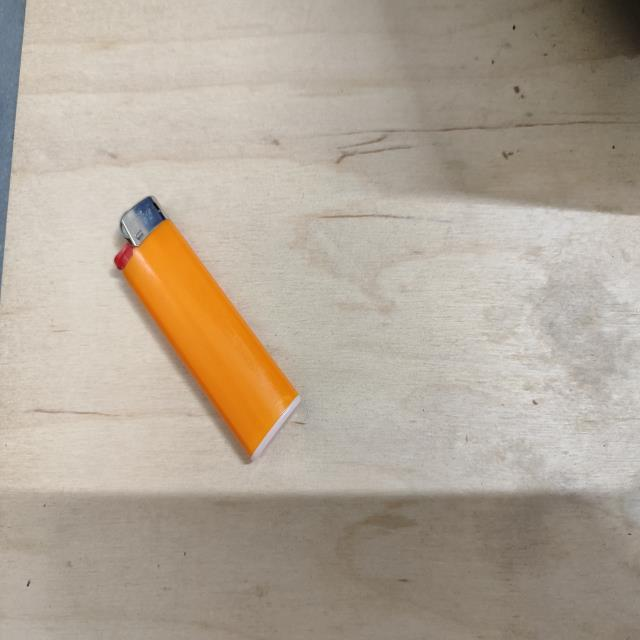lighter: (114, 198, 299, 459)
